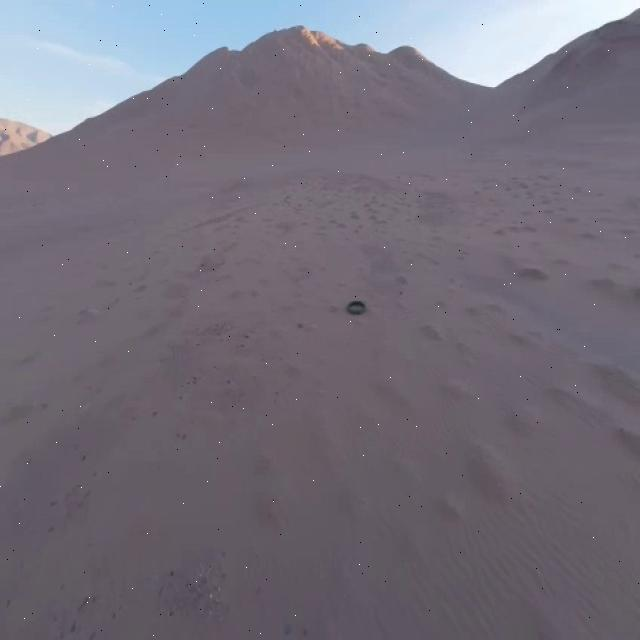Tire: (347, 301, 366, 313)
